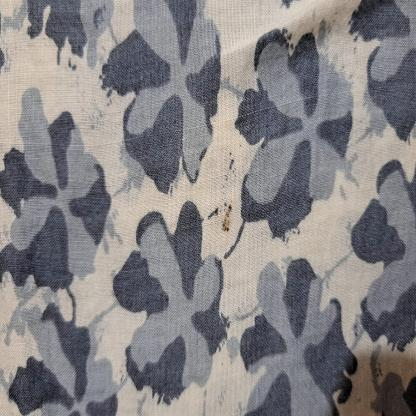spot: (222, 202, 232, 234), (230, 157, 236, 178), (223, 172, 228, 193), (214, 204, 221, 218), (229, 149, 232, 157)
